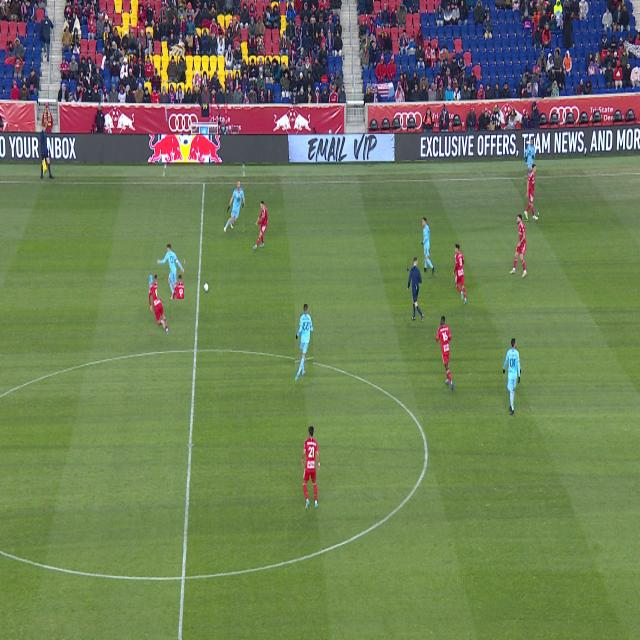football: (204, 283, 209, 291)
player: (302, 427, 320, 509), (158, 244, 184, 299), (295, 304, 313, 382), (436, 316, 454, 391), (504, 338, 520, 414), (149, 275, 169, 334), (510, 214, 527, 278), (224, 181, 245, 232), (453, 244, 466, 304), (421, 218, 434, 274), (253, 201, 268, 249), (525, 165, 538, 220), (525, 139, 535, 178)
referee: (407, 258, 424, 323)
